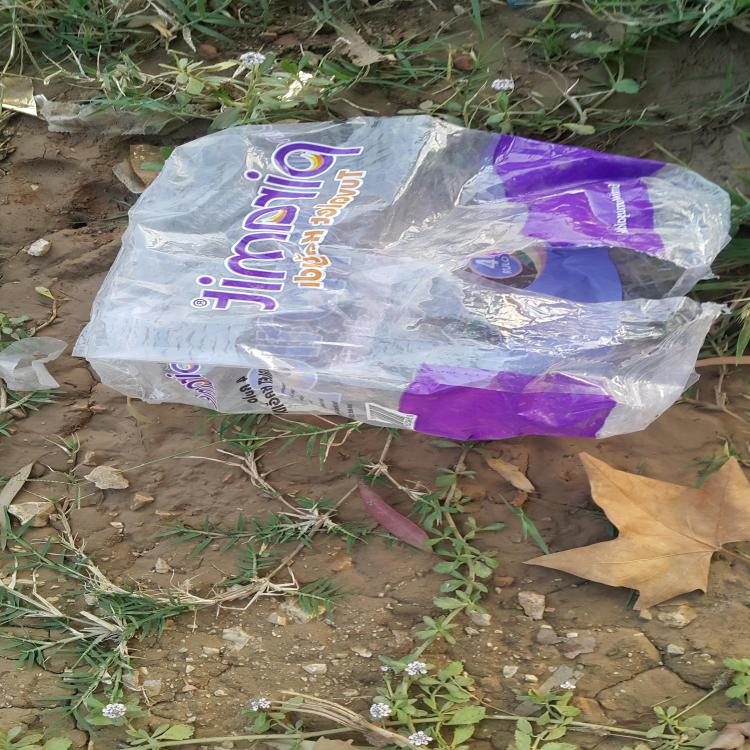Other plastic: (2, 77, 47, 121), (274, 70, 315, 103)
Plastic film: (71, 114, 733, 441), (40, 101, 204, 135), (0, 337, 69, 391)
